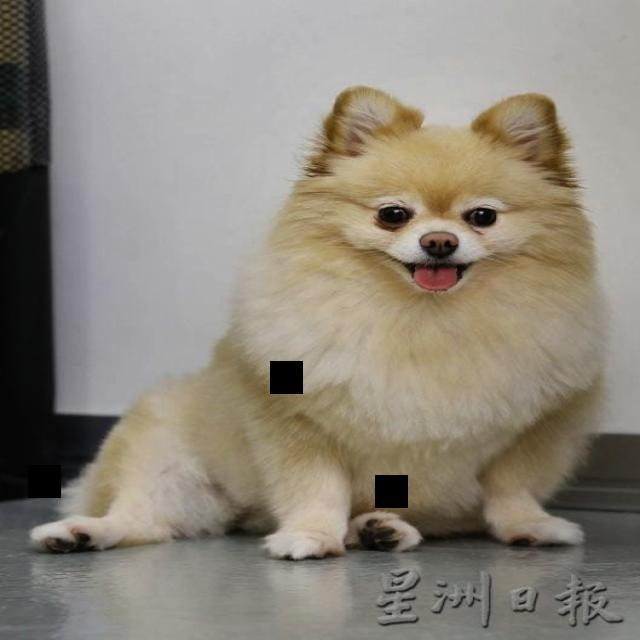adult_dog: (25, 79, 612, 565)
